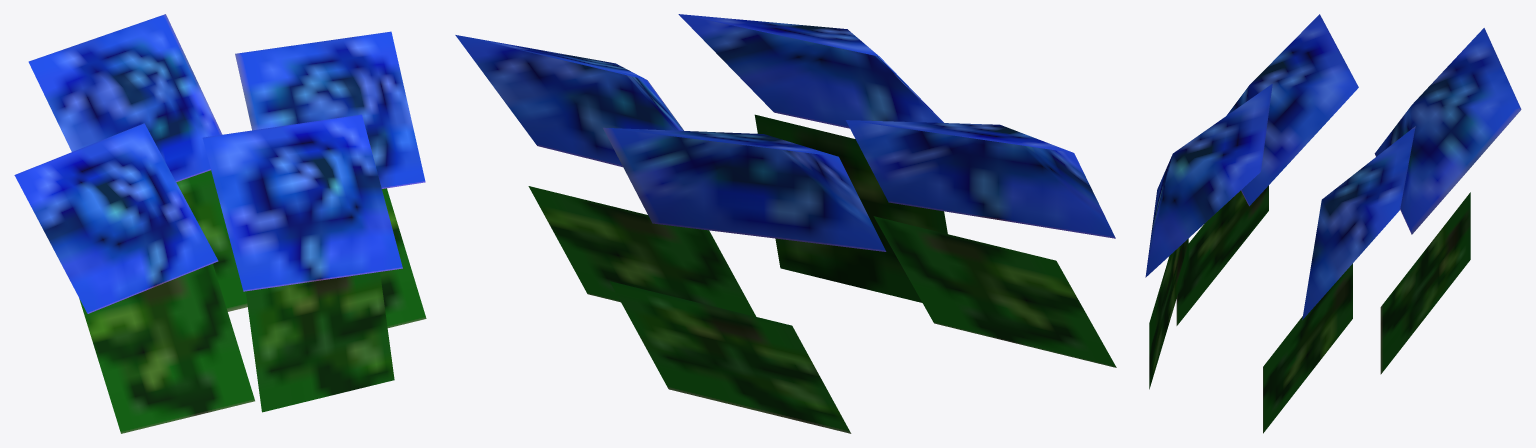
Rendered from flw_rose_bl.dae.
The picture shows the model from 3 angles, left to right: view 1: azimuth 30°, elevation 25°; view 2: azimuth 150°, elevation 25°; view 3: azimuth 270°, elevation 25°; orthographic projection. The views are drawn at different scales.
Parts seen in each view (by area): view 1: flw_rose_bl; view 2: flw_rose_bl; view 3: flw_rose_bl.
Boxes of the visible parts, bbox=[...] form: flw_rose_bl: bbox=[14, 14, 426, 433]; flw_rose_bl: bbox=[455, 14, 1116, 433]; flw_rose_bl: bbox=[1145, 14, 1521, 433].
Size of the model in its own units: 33.43 by 19.21 by 25.27.
Materials: 1 (1 with a texture image).
